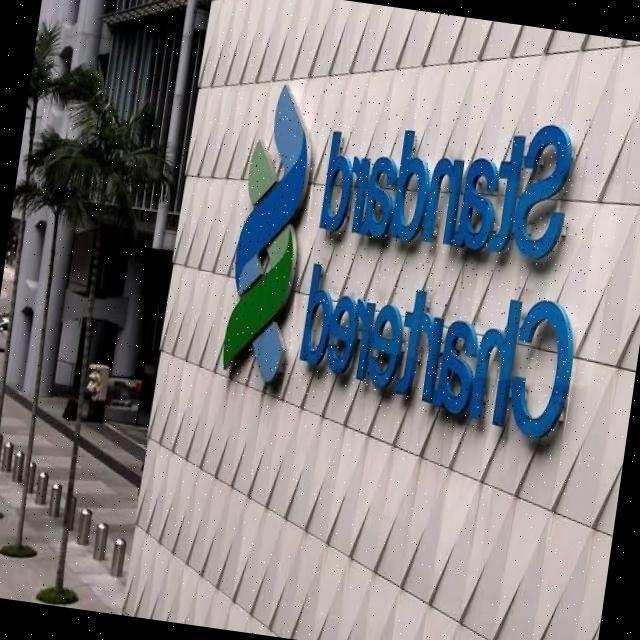Standard Chartered: (211, 72, 611, 435)
